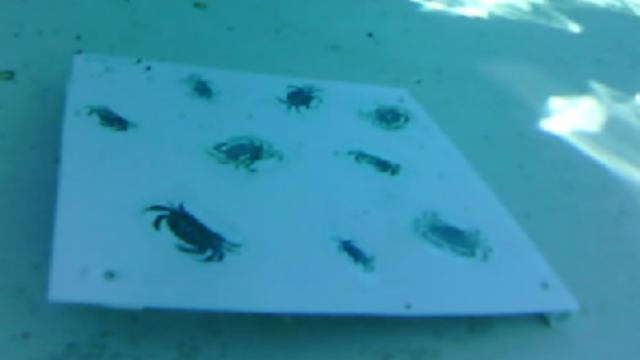crab: (143, 203, 242, 261), (414, 211, 492, 261), (206, 136, 282, 172), (359, 104, 411, 130), (346, 151, 401, 175), (335, 237, 374, 270), (87, 106, 132, 130), (278, 86, 319, 109), (180, 74, 214, 101)
